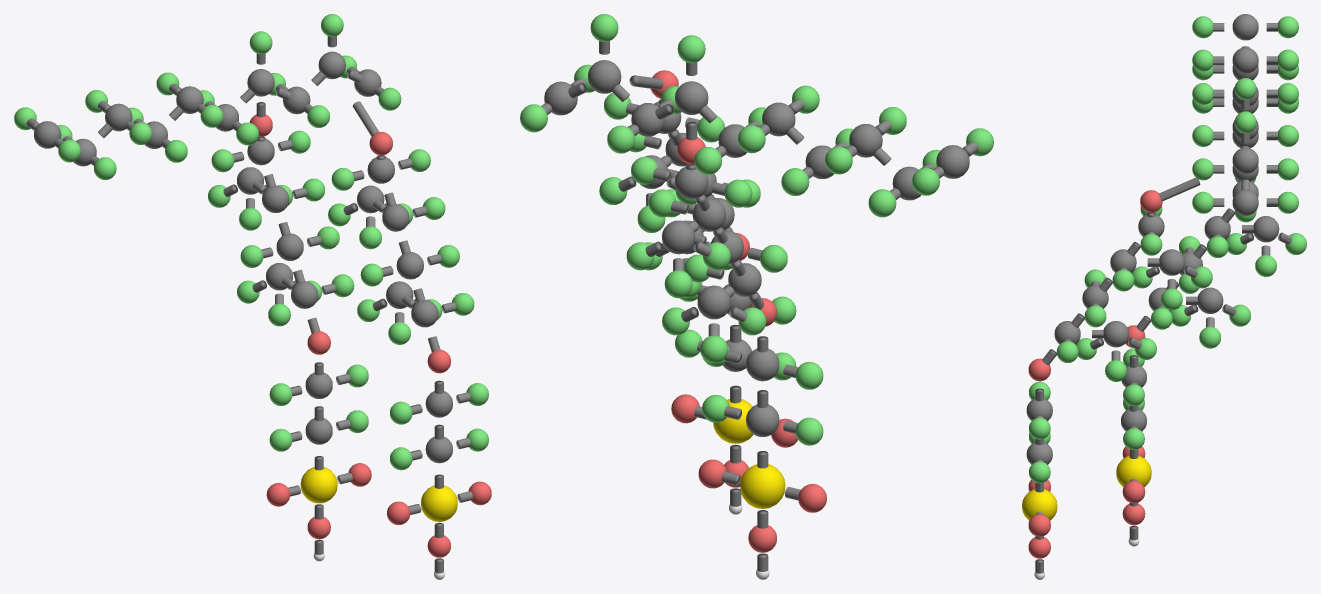
Rendered from nafion_stylised_structure.glb.
3 views of the same model, side by side, from view 1: azimuth 30°, elevation 25°; view 2: azimuth 150°, elevation 25°; view 3: azimuth 270°, elevation 25° (orthographic). The views are drawn at different scales.
Bounding box in the file's own units: 36.86 × 49.24 × 27.21.
